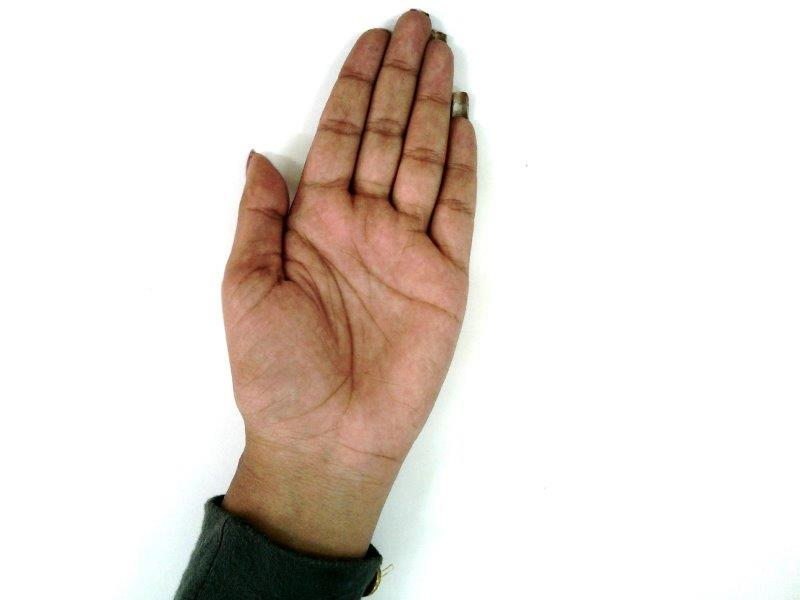hand: (221, 11, 478, 458)
